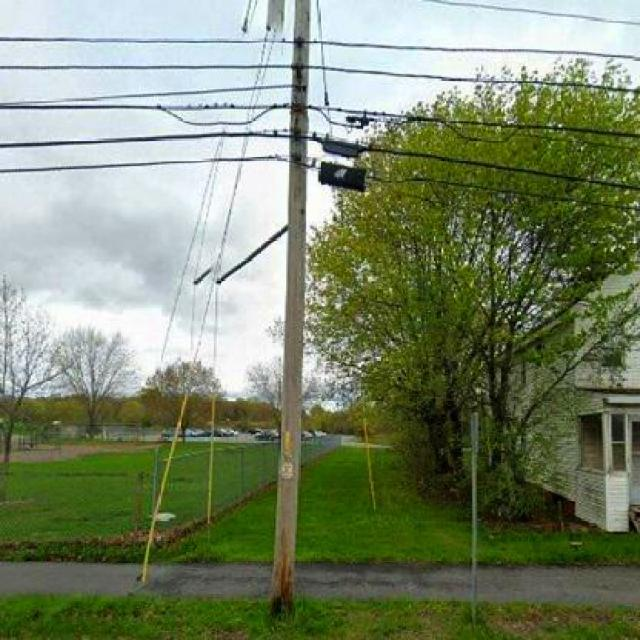pole: (271, 1, 312, 624)
wire: (0, 131, 640, 195), (0, 65, 640, 94), (0, 37, 640, 60), (308, 105, 638, 140), (367, 172, 639, 213), (0, 85, 286, 109), (0, 154, 317, 175), (164, 104, 281, 132), (0, 102, 289, 111)
